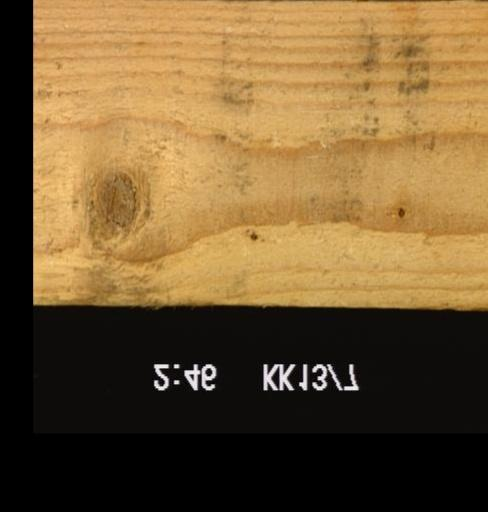dry_knot: (392, 203, 405, 224)
small_knot: (245, 228, 261, 248)
sound_knot: (78, 162, 150, 239)
